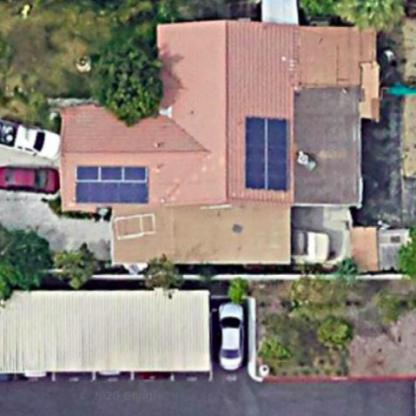car: (1, 115, 62, 163), (220, 296, 249, 375), (1, 164, 59, 199)
solar_panel: (239, 108, 295, 196), (72, 162, 156, 208)
